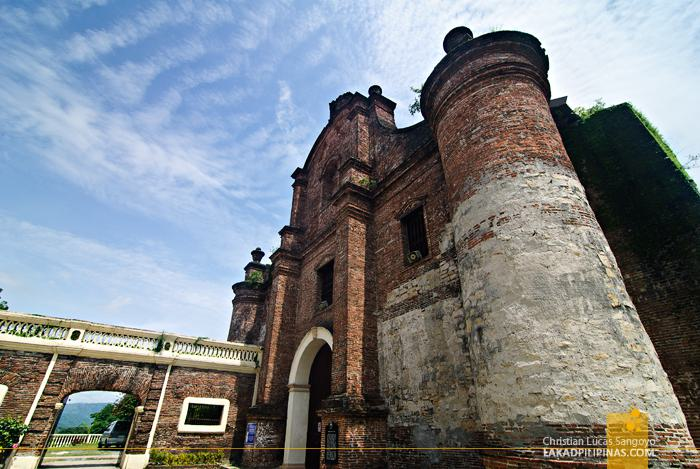Environmental Damage: (635, 113, 689, 168), (569, 97, 609, 121), (245, 270, 263, 287)
Sta. Maria Church: (207, 32, 682, 467)
Unfinished Paint: (377, 235, 646, 408)
